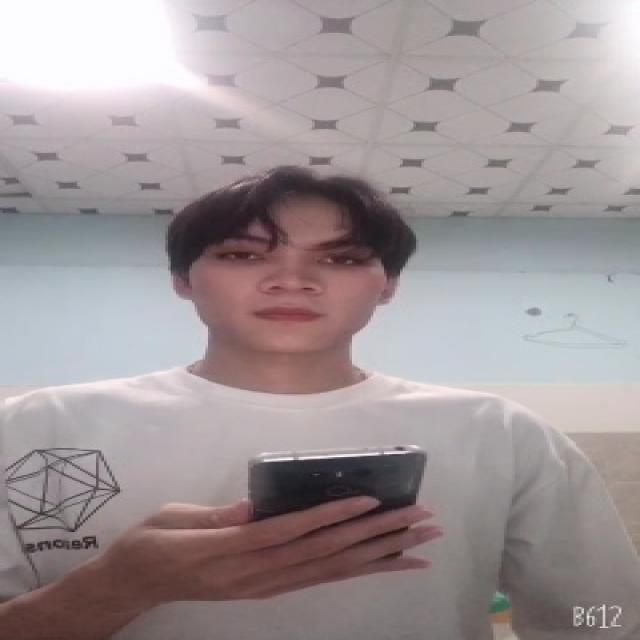Phone: (246, 442, 428, 572)
